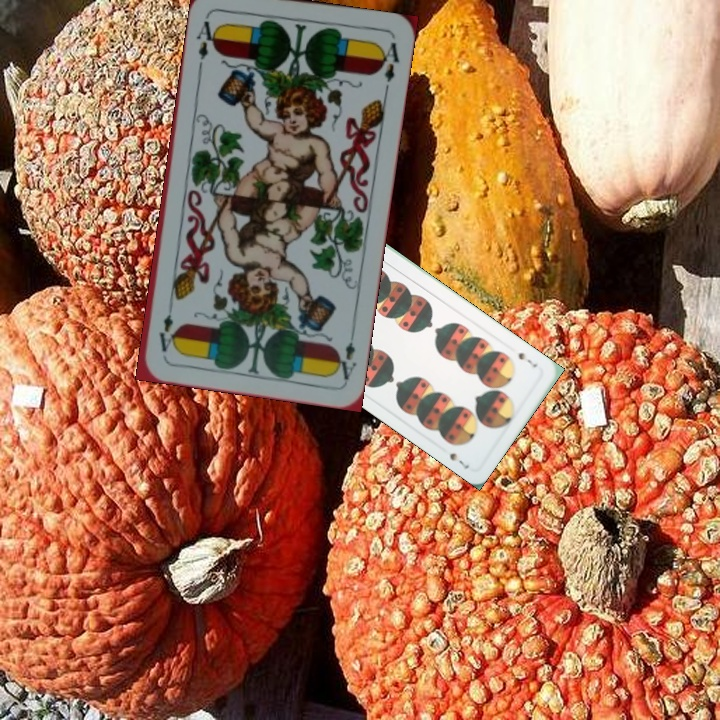EA: (192, 10, 221, 69), (331, 325, 360, 383)
S7: (513, 348, 540, 370)
